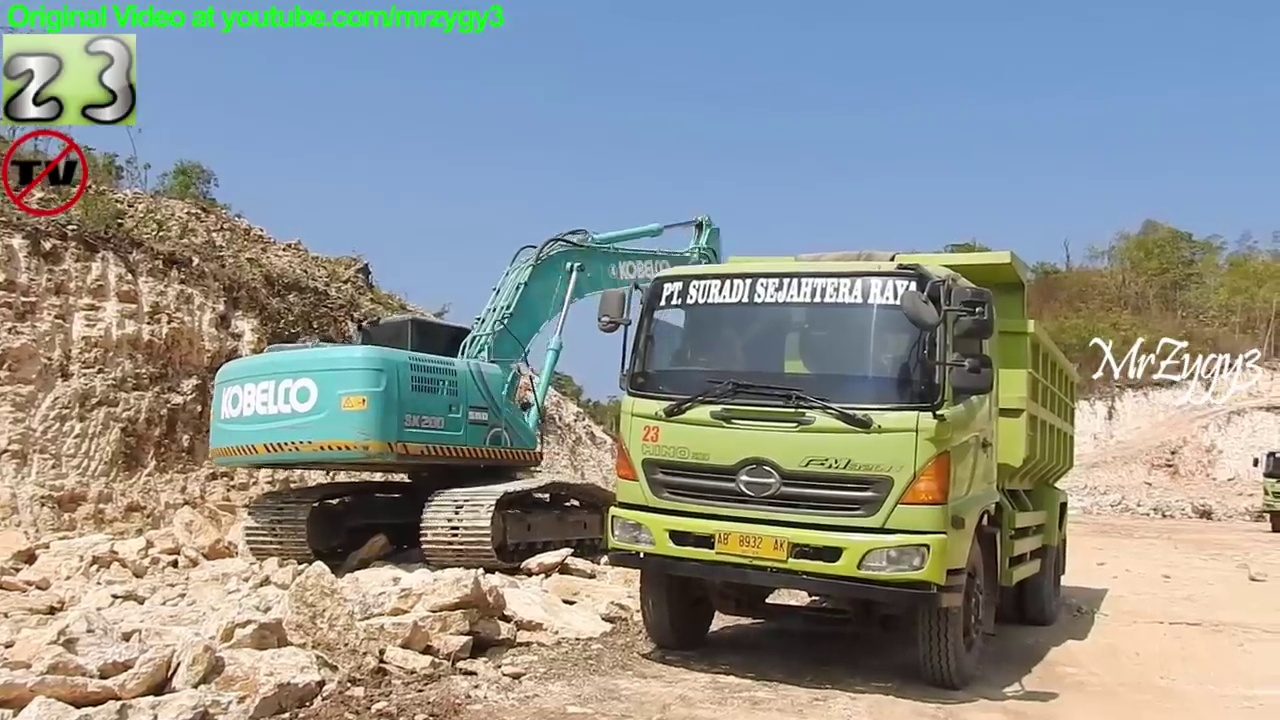excavator: (198, 207, 764, 581)
truck: (596, 243, 1086, 692), (1248, 438, 1280, 536)
